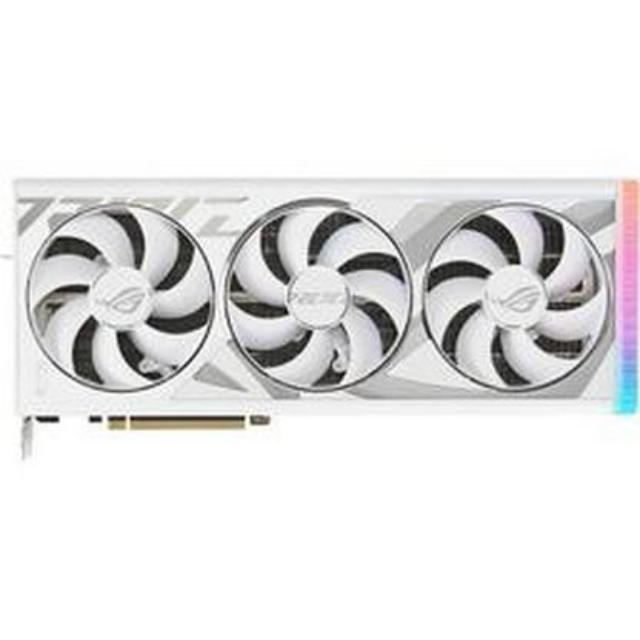GPU: (0, 169, 640, 437)
